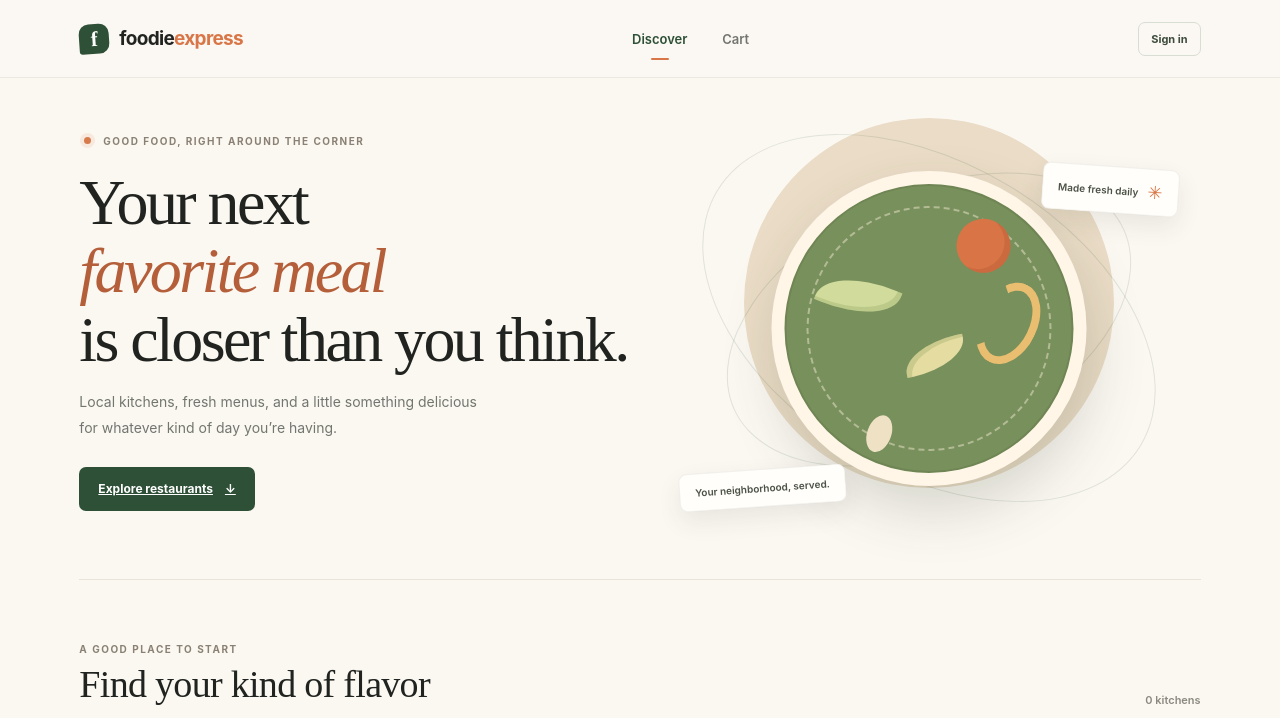
Test case: FoodieExpress UI › lists admin platform orders and loads the returned delivery status
The width and height of the screenshot is (1280, 718).
Click the button "Sign in". click: (1169, 38)
box: x1=1138 y1=22 x2=1201 y2=56
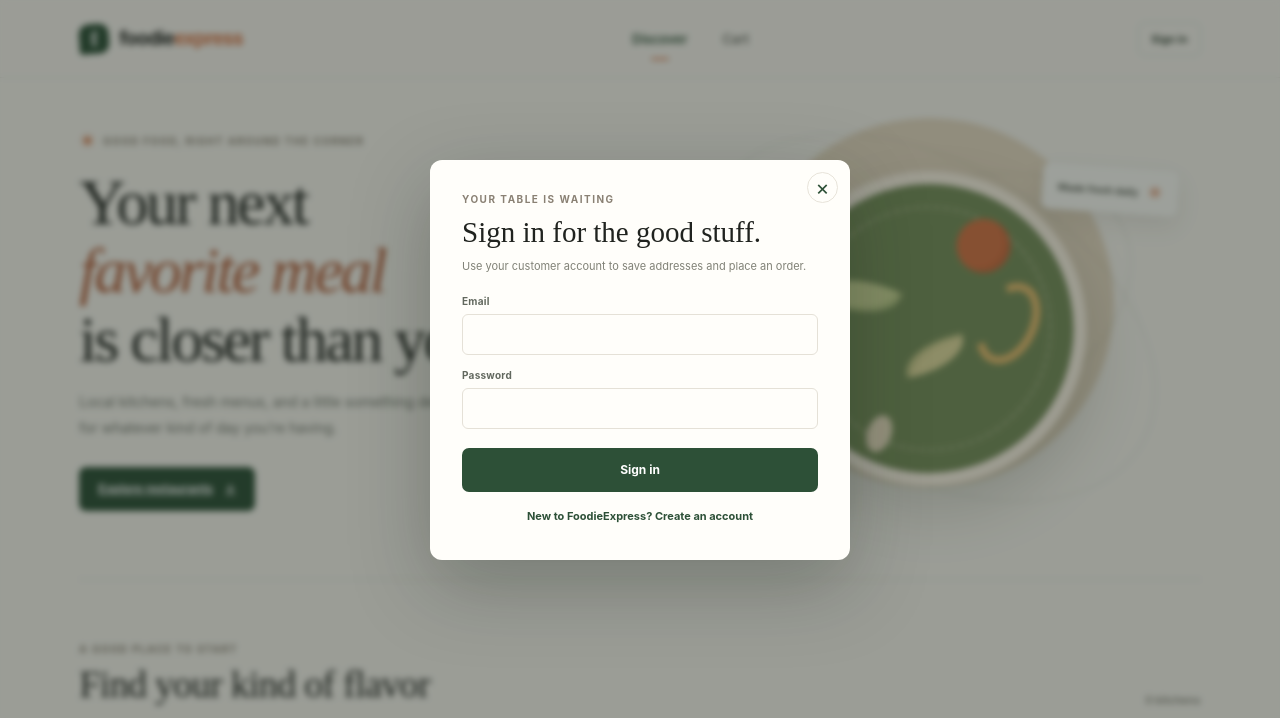
Type "customer@example.test" into the field labelled "Email". click: (640, 334)
box: x1=462 y1=314 x2=818 y2=355
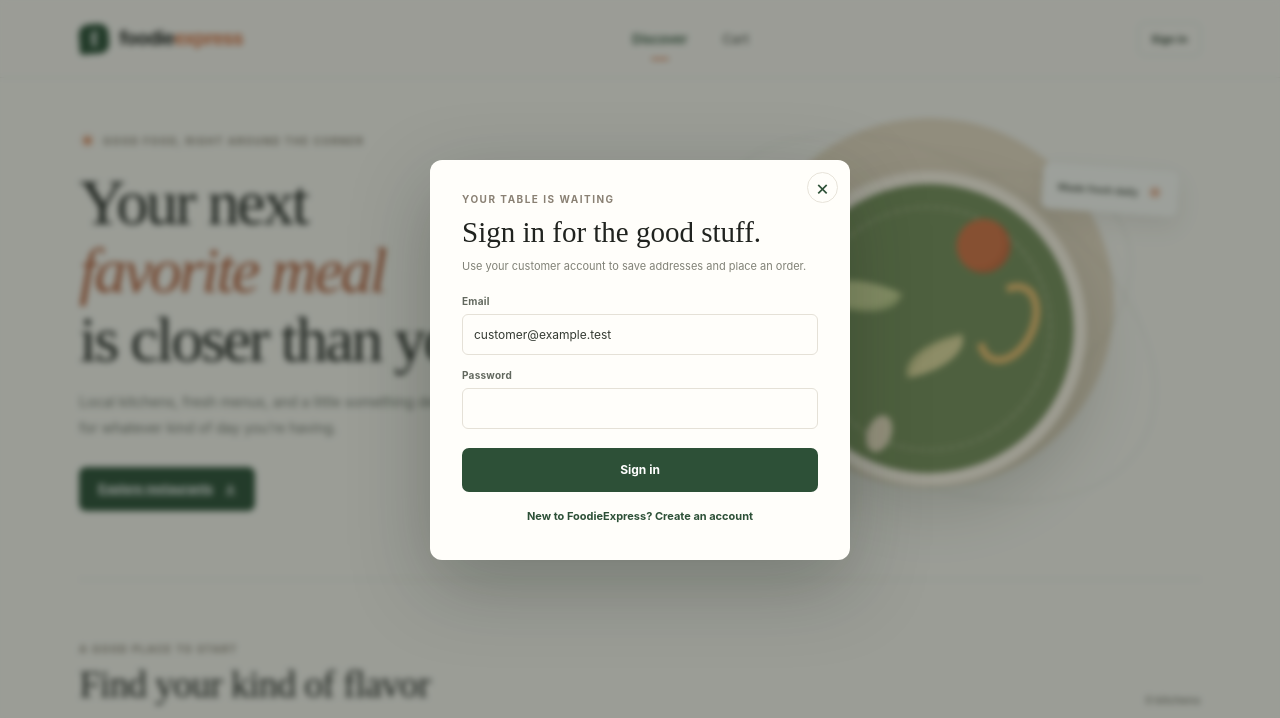
Type "correct-horse-battery" into the password field labelled "Password". click: (640, 408)
box: x1=462 y1=388 x2=818 y2=429
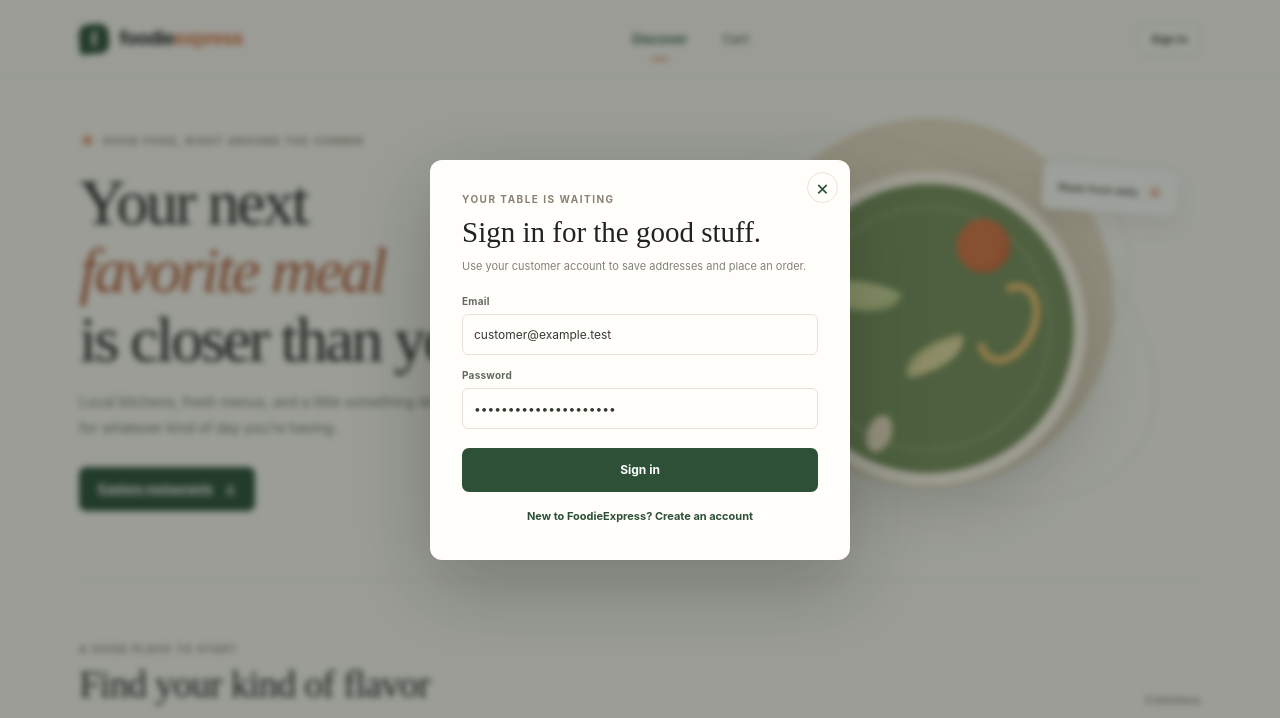
Click the button "Sign in". click: (640, 470)
box: x1=462 y1=448 x2=818 y2=492
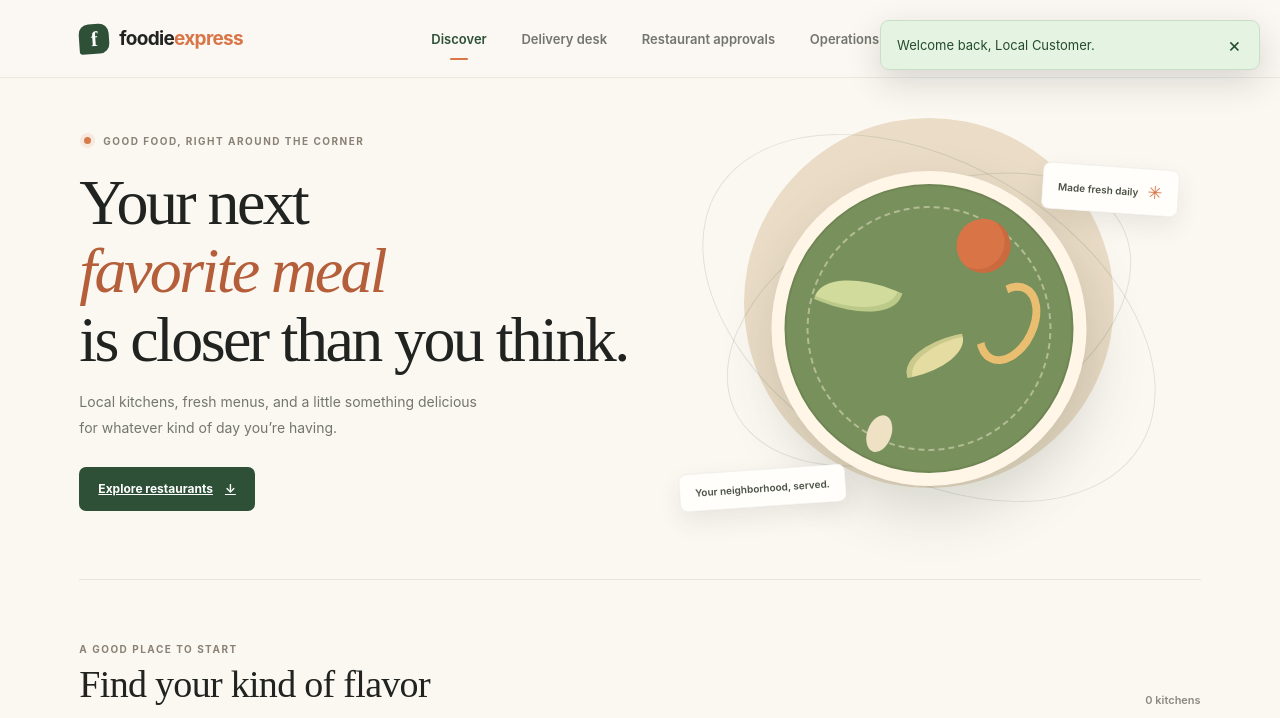
Expected: the text "Hi, Local" is shown, x1=1068 y1=31 x2=1117 y2=46
Click the button "Operations". click: (844, 38)
box: x1=808 y1=0 x2=881 y2=77
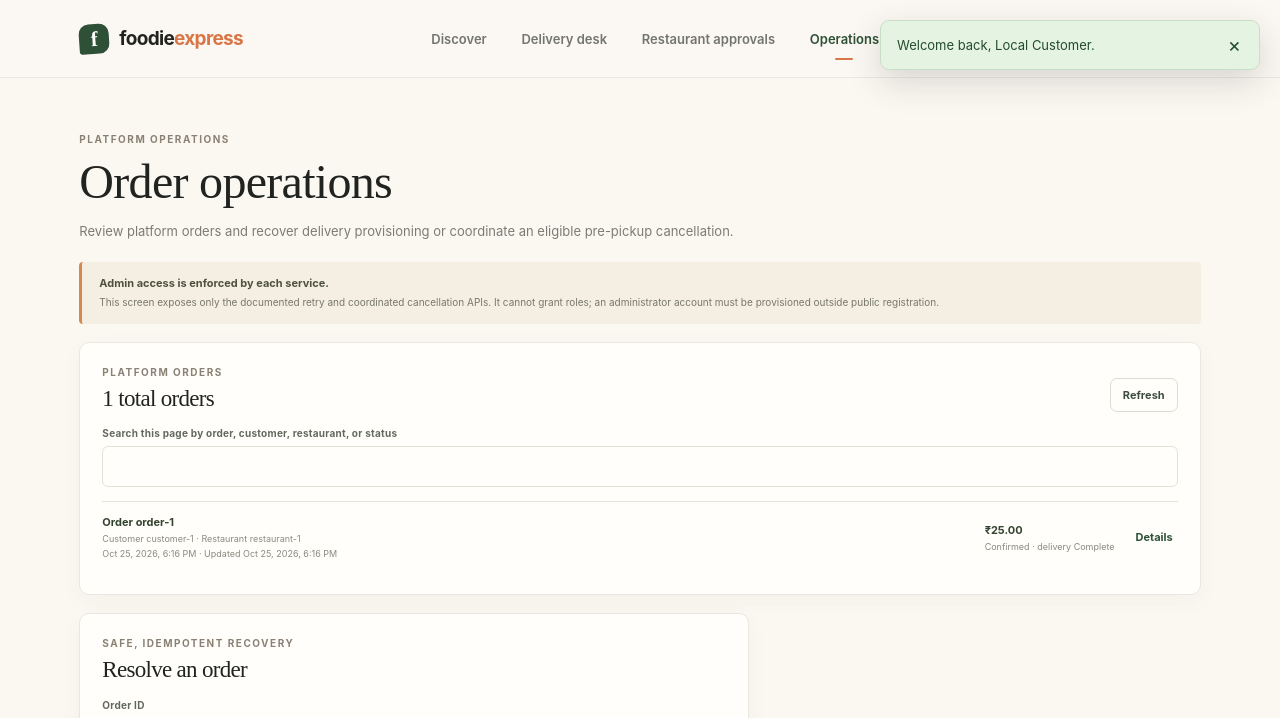
Expected: the text "Order order-1" is shown, x1=102 y1=515 x2=174 y2=529
Expected: the text "Customer customer-1 · Restaurant restaurant-1" is shown, x1=102 y1=533 x2=301 y2=544
Click the button "Details". click: (1154, 537)
box: x1=1130 y1=525 x2=1178 y2=549
(page scrolled)
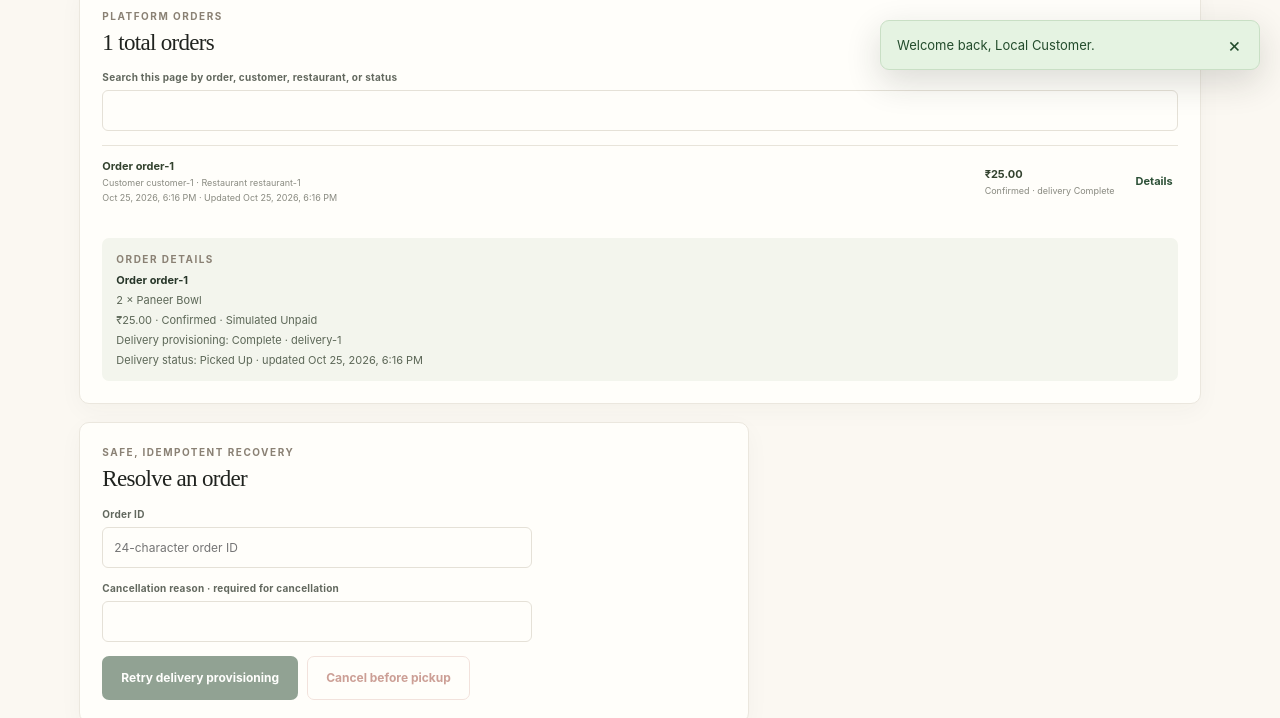
Expected: the text "Delivery status: Picked Up · updated Oct 25, 2026, 6:16 PM" is shown, x1=116 y1=353 x2=423 y2=367
